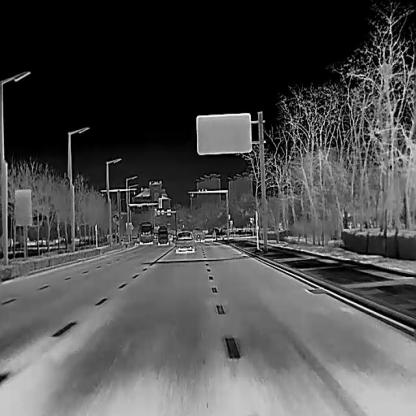bus: (139, 220, 154, 244)
car: (174, 230, 195, 251), (157, 225, 169, 245)
